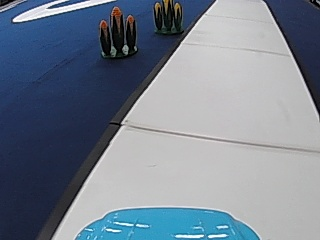corn: (97, 4, 138, 59), (151, 0, 184, 34)
